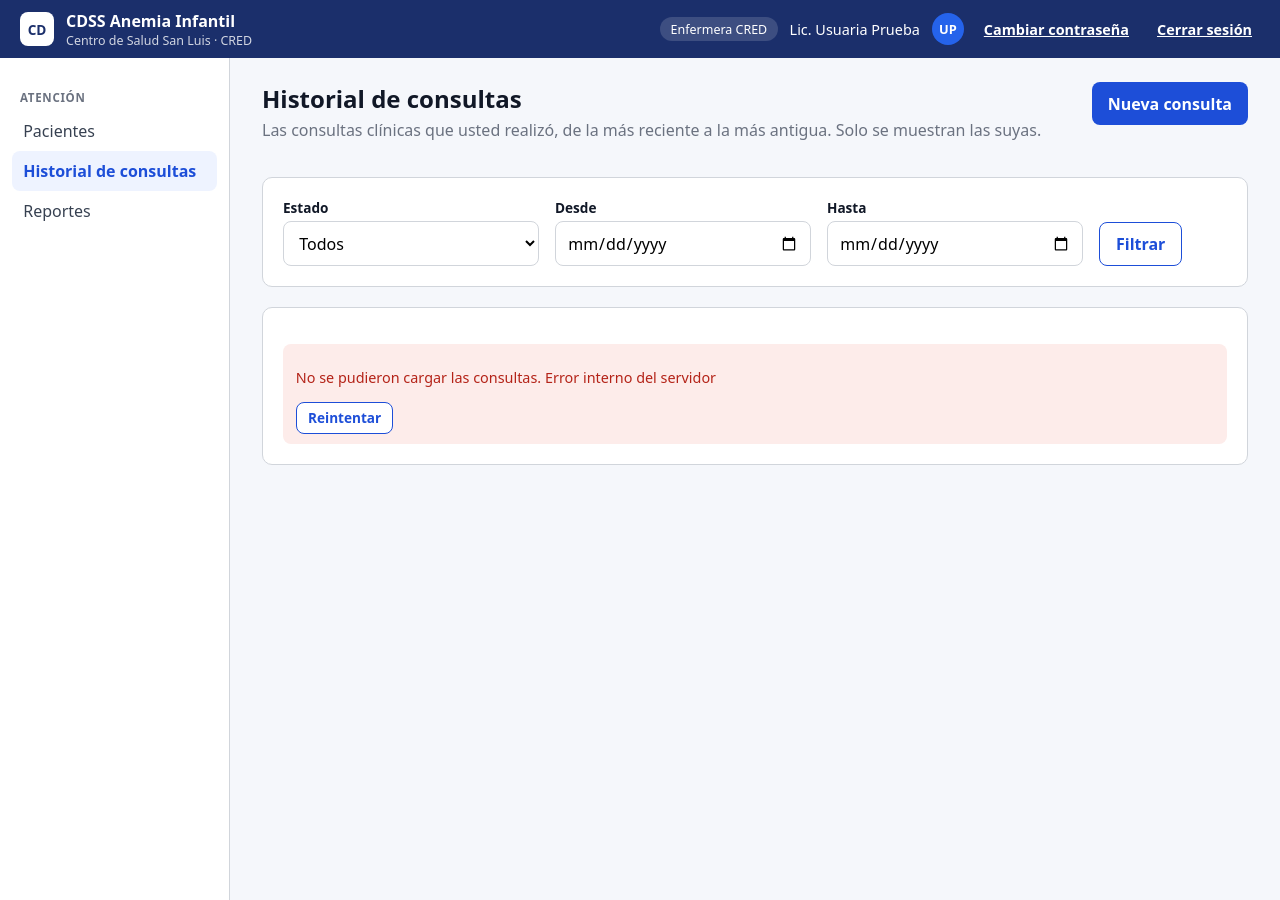
Test: Historial de consultas · carga, vacío y error › si falla, muestra el error y «Reintentar» vuelve a pedir la lista
Expected: the message shows "No se pudieron cargar las consultas.", [296,368,545,387]
Click the button "Reintentar" at (345, 418), box [296,402,393,434]
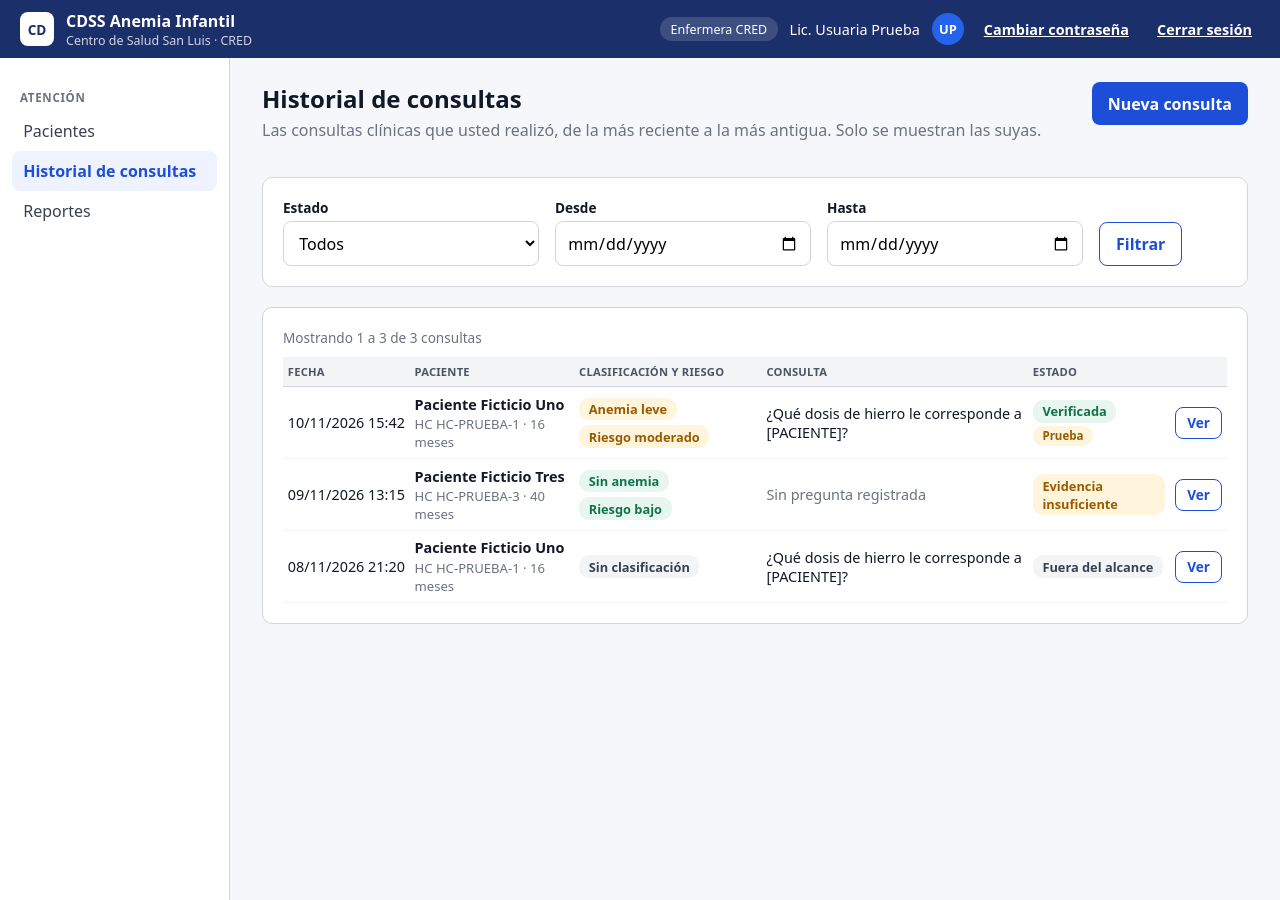
Expected: the element named "Consultas realizadas" is shown, [283,357,1227,603]
